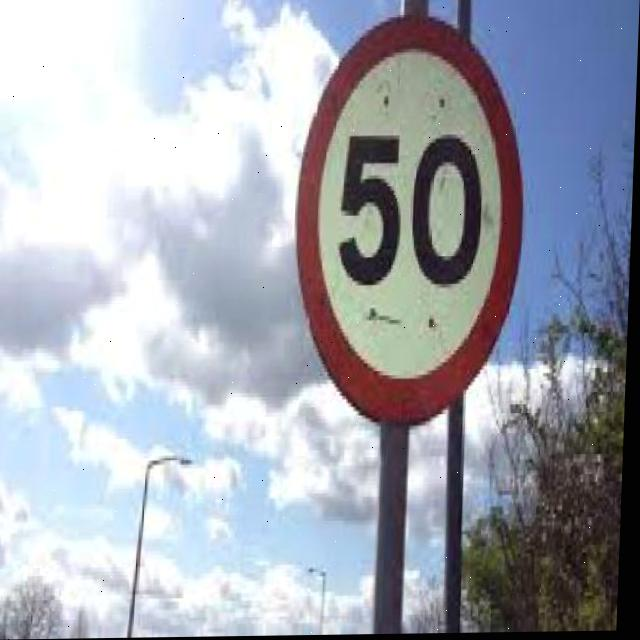Speed limit 50: (287, 12, 536, 432)
